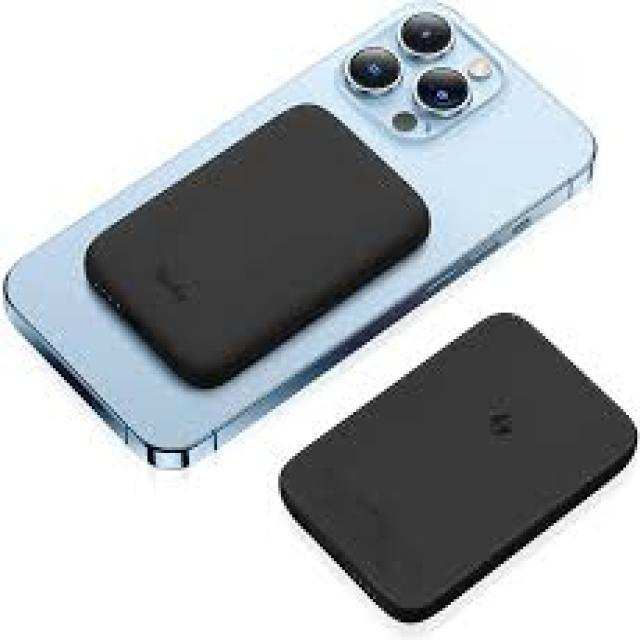power_bank: (271, 304, 640, 640), (77, 97, 440, 397)
